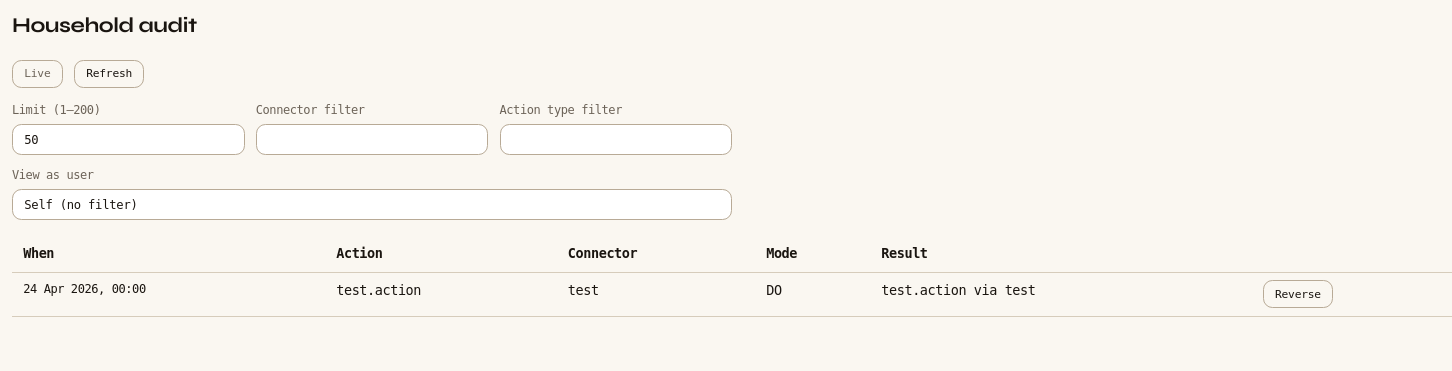
Test case: AdminAuditView › invalidates the audit list after unknown reverse token
Click the button "Reverse": x=1298, y=294 [1263,280,1333,308]
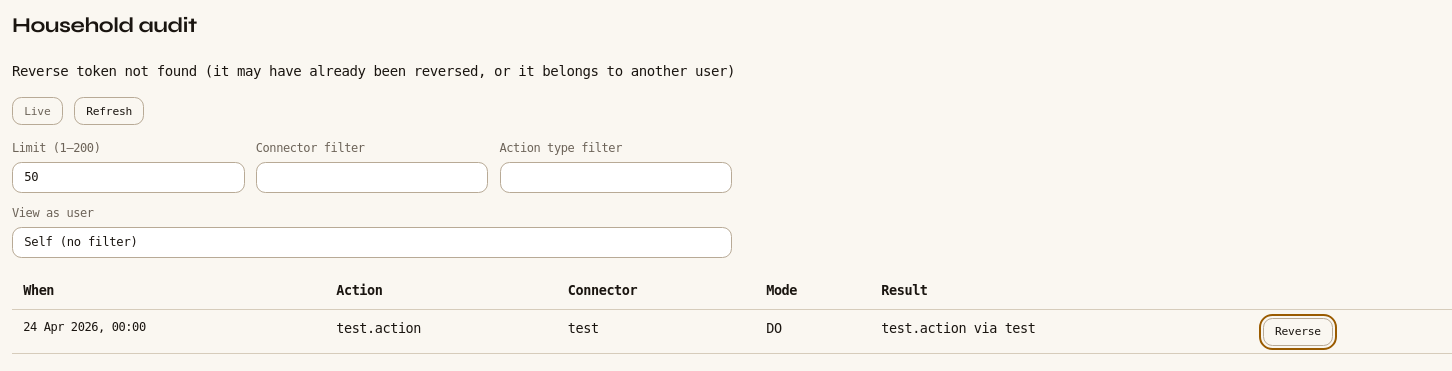
expect the message shows "Reverse token not found": met, box [12,63,735,79]
